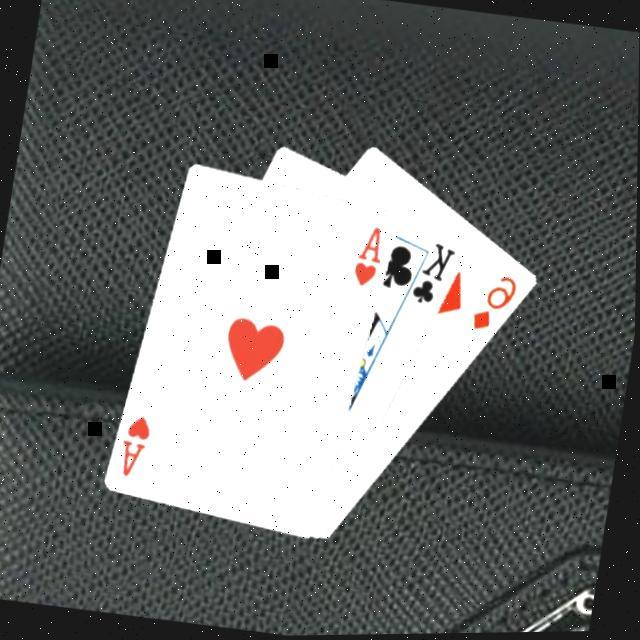6D: (468, 270, 522, 341)
AH: (115, 412, 157, 484), (348, 224, 389, 294)
KC: (398, 238, 460, 316)
